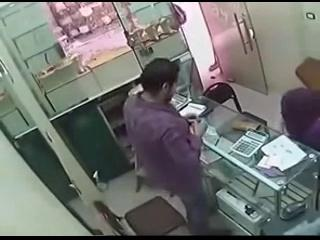Normal: (122, 58, 210, 232)
